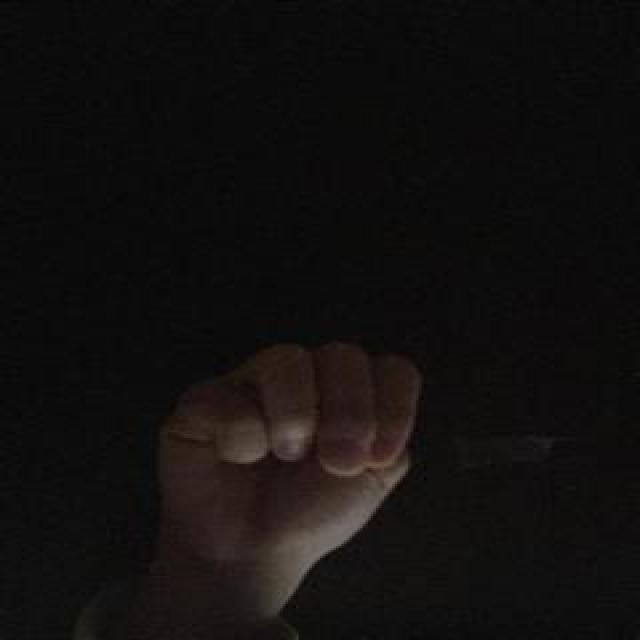M: (148, 336, 447, 602)
